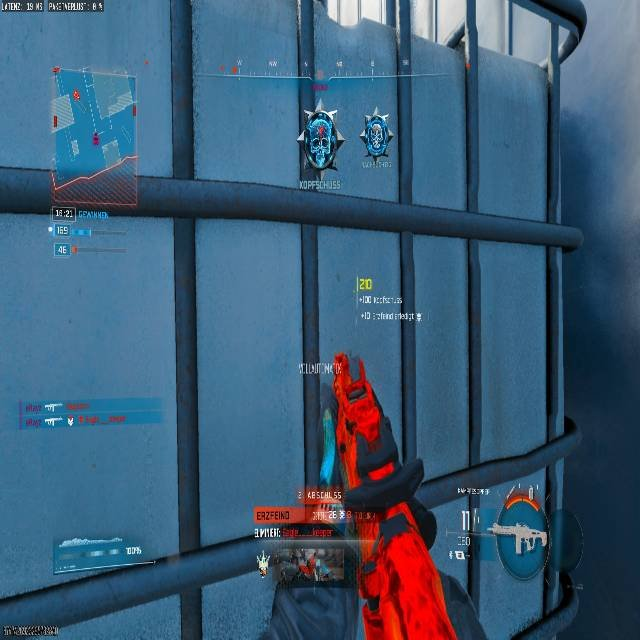player: (301, 107, 342, 177), (360, 110, 392, 164)
